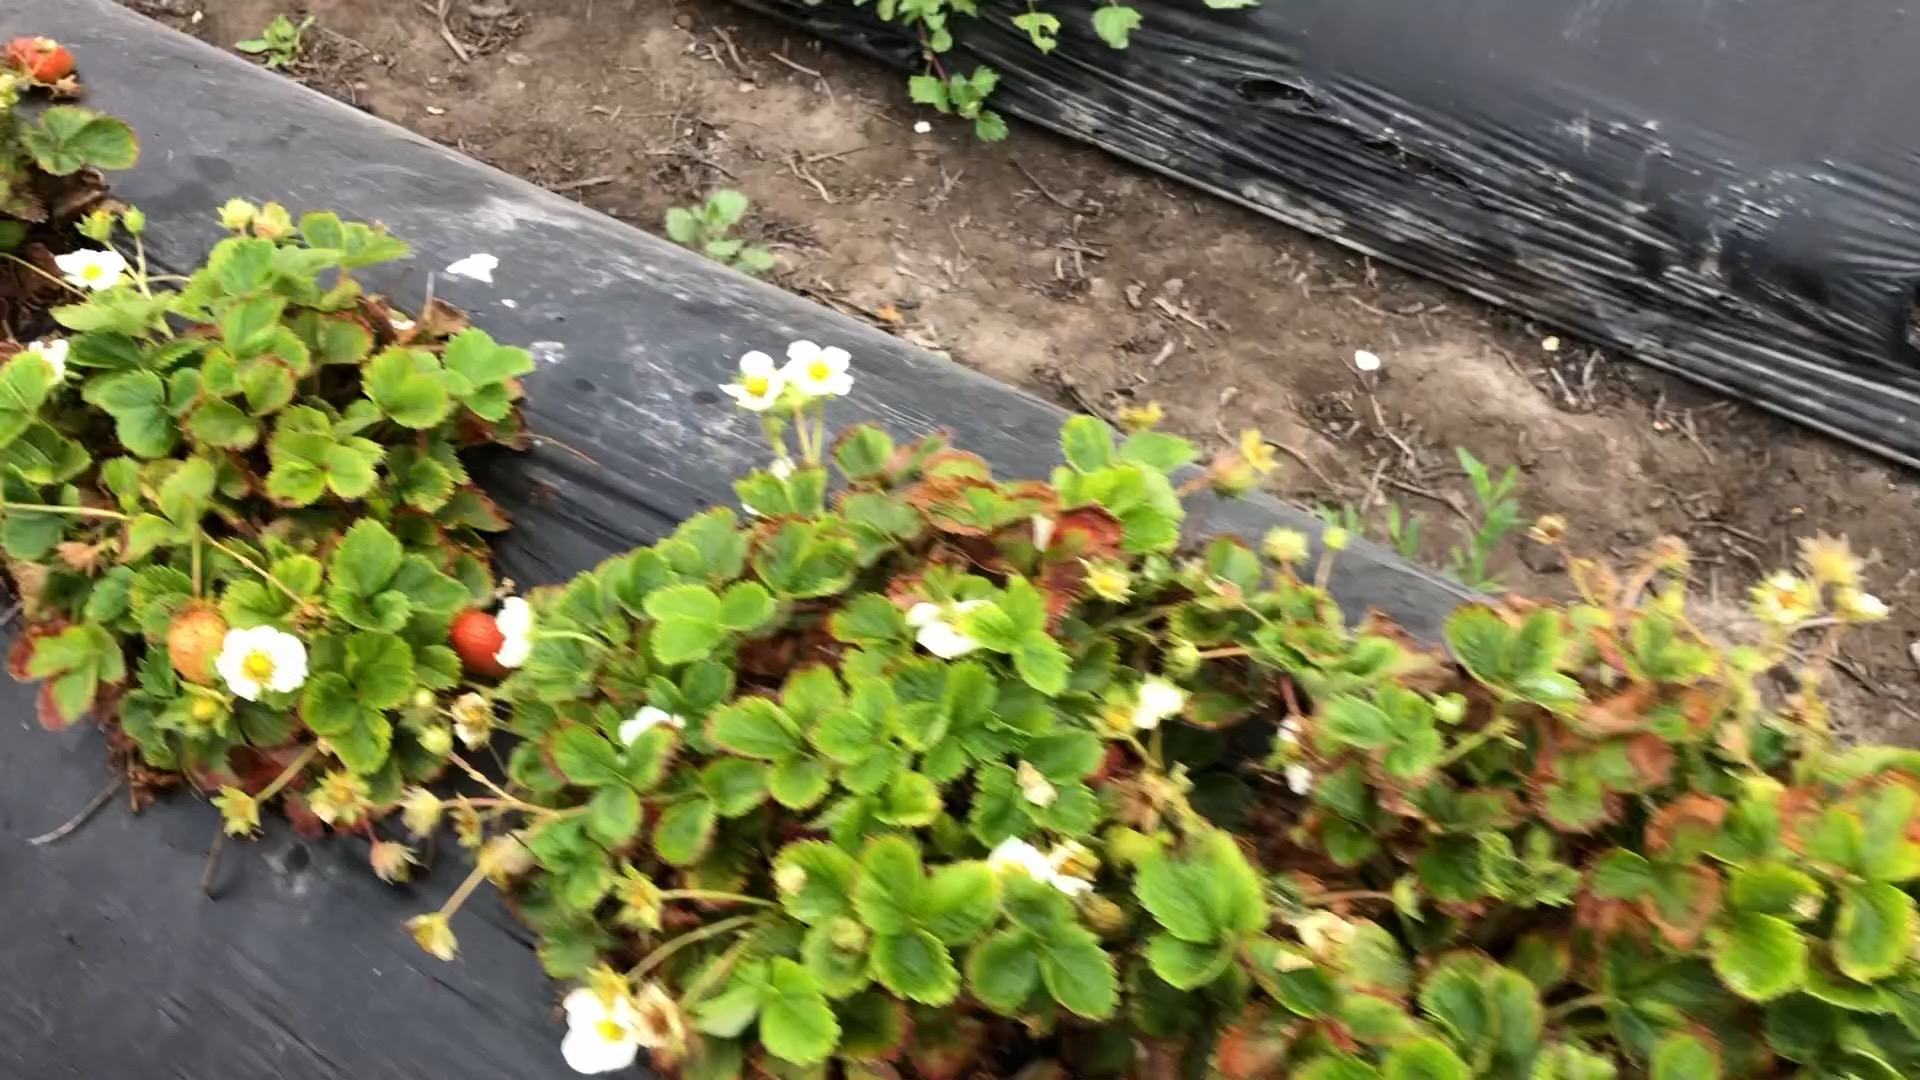ripe_strawberry: (450, 607, 516, 682)
unripe_strawberry: (162, 604, 233, 691), (1, 37, 80, 84)
